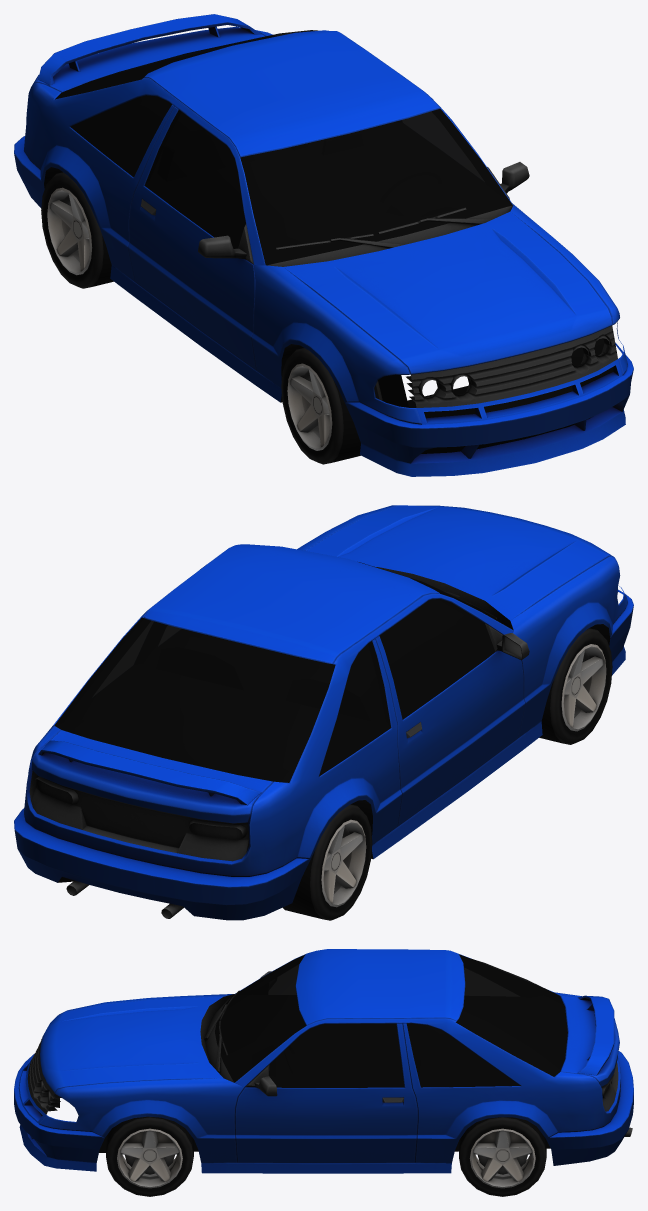
The model's file is Car3.glb.
3 views of the same model, one above another, from view 1: azimuth 30°, elevation 25°; view 2: azimuth 150°, elevation 25°; view 3: azimuth 270°, elevation 25° (orthographic). The views are drawn at different scales.
Visible parts, largest first — view 1: Wheel_F001_Wheel_0; view 2: Wheel_F001_Wheel_0; view 3: Wheel_F001_Wheel_0.
Part boxes in pixels (left/top/right/bottom): Wheel_F001_Wheel_0: left=14, top=14, right=633, bottom=476; Wheel_F001_Wheel_0: left=14, top=505, right=633, bottom=920; Wheel_F001_Wheel_0: left=14, top=949, right=633, bottom=1196.
Size of the model in its own units: 1.88 by 1.28 by 4.24.
3 materials, 2 textured.
